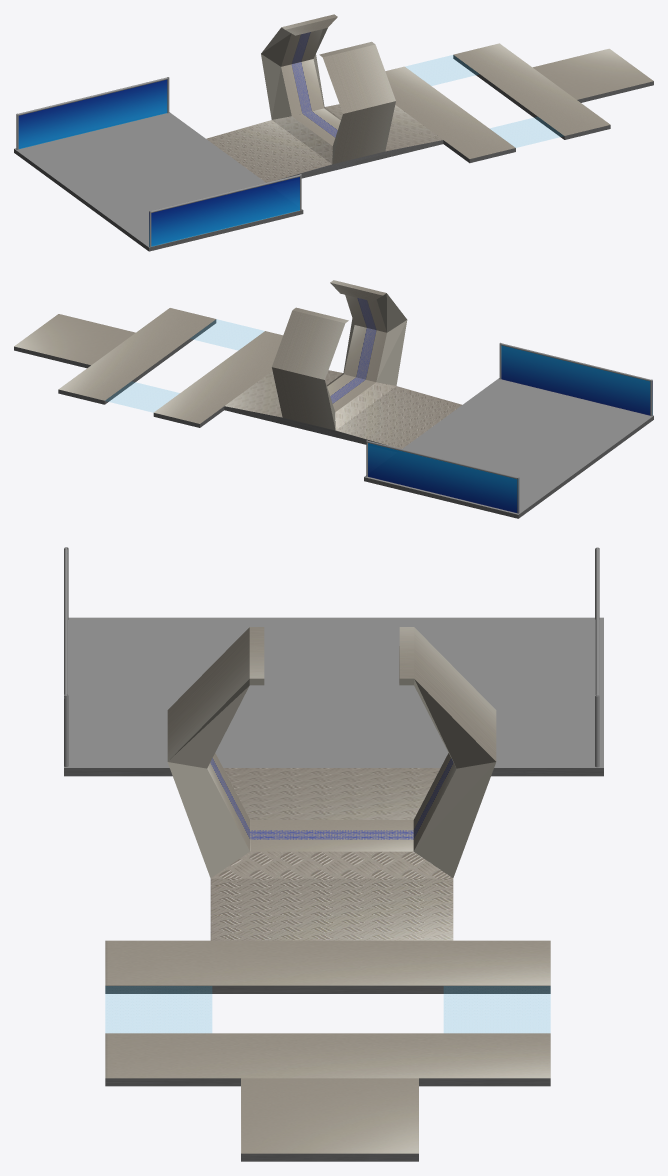
File: Terreno1Tratado.FBX
3 renders of one model, top to bottom at view 1: azimuth 30°, elevation 25°; view 2: azimuth 150°, elevation 25°; view 3: azimuth 270°, elevation 25°, orthographic. The views are drawn at different scales.
Visible parts, largest first — view 1: Chao2, VidroChao, Chao3, ParedeAzul, ParedeAzul2, Chão4, ferro2, ferro1; view 2: Chao2, VidroChao, Chao3, ParedeAzul, ParedeAzul2, Chão4, ferro1, ferro2; view 3: VidroChao, Chao2, Chao3, Chão4, ferro2, ferro1.
Boxes of the visible parts, bbox=[...] form: Chao2: bbox=[206, 14, 443, 182]; VidroChao: bbox=[14, 112, 303, 251]; Chao3: bbox=[385, 43, 610, 163]; ParedeAzul: bbox=[149, 177, 299, 246]; ParedeAzul2: bbox=[18, 79, 167, 149]; Chão4: bbox=[533, 48, 653, 102]; ferro2: bbox=[16, 77, 169, 149]; ferro1: bbox=[149, 174, 301, 247]; Chao2: bbox=[224, 280, 461, 448]; VidroChao: bbox=[364, 378, 653, 518]; Chao3: bbox=[58, 308, 282, 427]; ParedeAzul: bbox=[501, 345, 652, 415]; ParedeAzul2: bbox=[368, 443, 518, 513]; Chão4: bbox=[14, 314, 135, 368]; ferro1: bbox=[499, 342, 652, 416]; ferro2: bbox=[366, 440, 519, 513]; VidroChao: bbox=[64, 617, 603, 776]; Chao2: bbox=[167, 627, 496, 940]; Chao3: bbox=[105, 940, 550, 1086]; Chão4: bbox=[241, 1078, 418, 1161]; ferro2: bbox=[595, 547, 599, 767]; ferro1: bbox=[64, 547, 68, 766].
Size of the model in its own units: 142 by 26.45 by 60.68.
